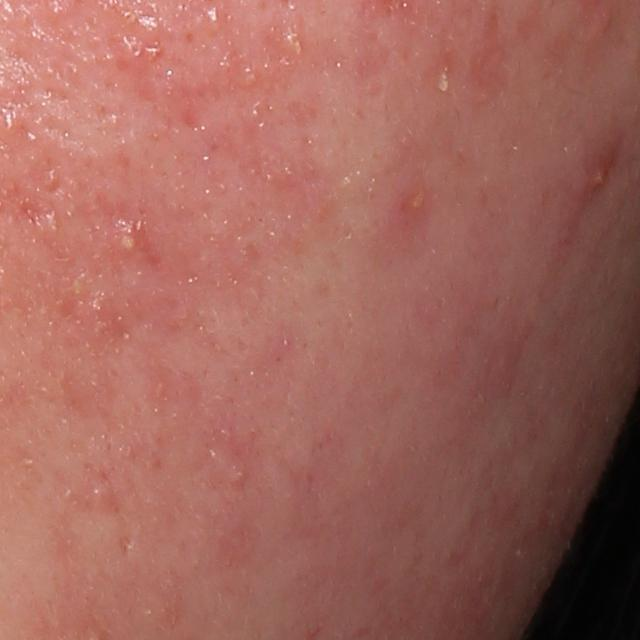atrophic_scar: (116, 528, 136, 554)
pustule: (276, 27, 311, 60), (433, 62, 452, 96), (117, 234, 138, 256)
